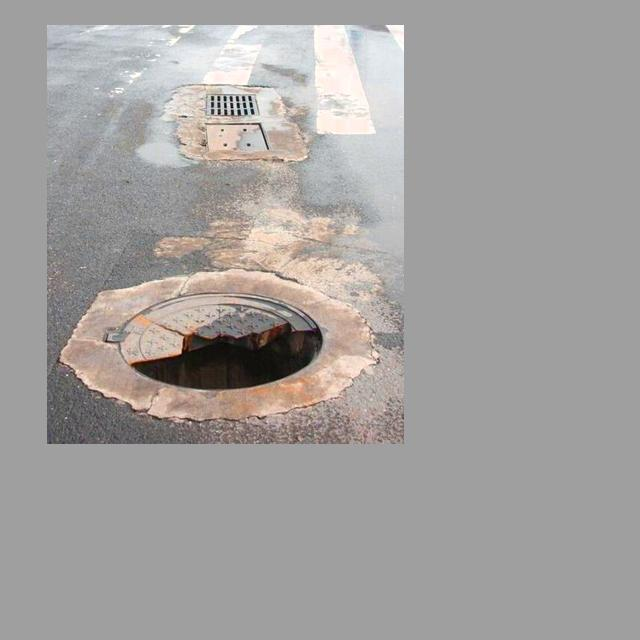broke: (70, 247, 372, 428)
